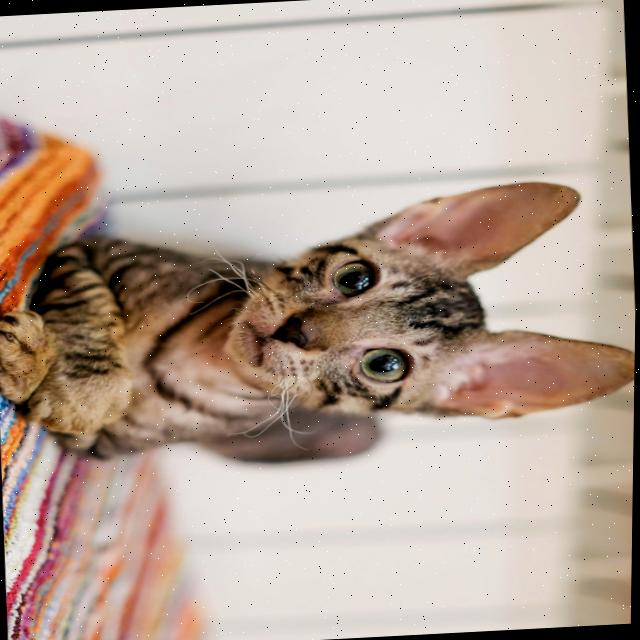Cornish Rex: (0, 173, 638, 481)
